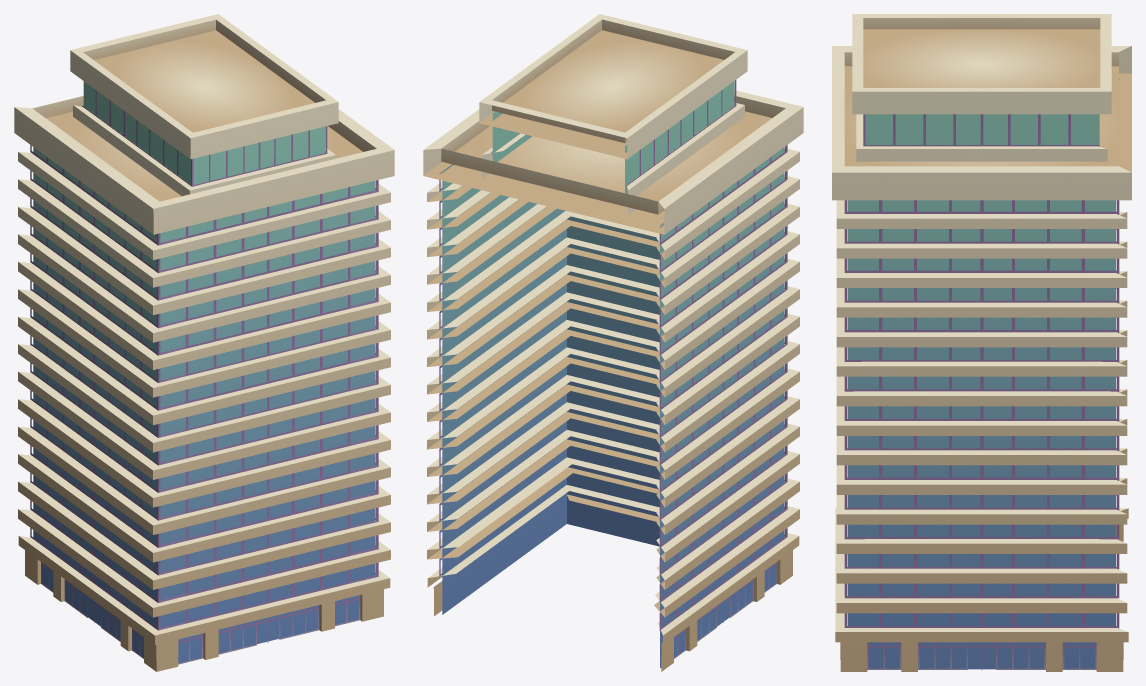
3 views of the same model, side by side, from view 1: azimuth 30°, elevation 25°; view 2: azimuth 150°, elevation 25°; view 3: azimuth 270°, elevation 25° (orthographic). The views are drawn at different scales.
Visible parts, largest first — view 1: SM_17F_03; view 2: SM_17F_03; view 3: SM_17F_03.
Part boxes in pixels (<box>): SM_17F_03: <box>14,14,394,671</box>; SM_17F_03: <box>423,14,803,671</box>; SM_17F_03: <box>832,14,1131,671</box>.
Size of the model in its own units: 28.52 by 58.76 by 28.52.
